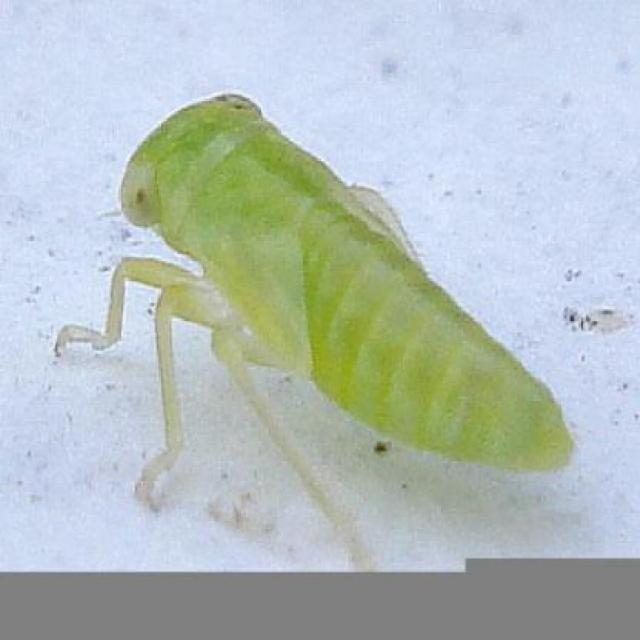green-leafhopper: (53, 87, 577, 574)
